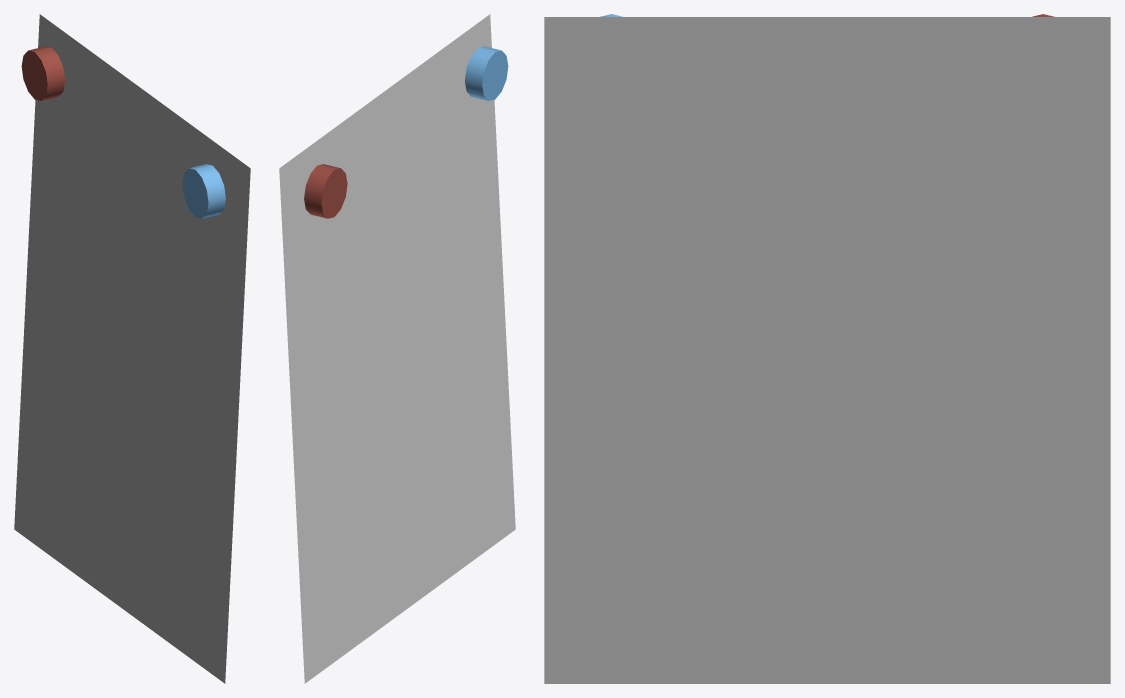
Rendered from KurodaHome_Drawing.fbx.
3 renders of one model, left to right at view 1: azimuth 30°, elevation 25°; view 2: azimuth 150°, elevation 25°; view 3: azimuth 270°, elevation 25°, orthographic. The views are drawn at different scales.
Visible parts, largest first — view 1: KurodaHome_Drawing; view 2: KurodaHome_Drawing; view 3: KurodaHome_Drawing.
Boxes of the visible parts, bbox=[...] form: KurodaHome_Drawing: bbox=[14, 14, 250, 683]; KurodaHome_Drawing: bbox=[279, 14, 515, 683]; KurodaHome_Drawing: bbox=[544, 14, 1110, 683].
Bounding box in the file's own units: 0.0173 × 0.2796 × 0.21.
